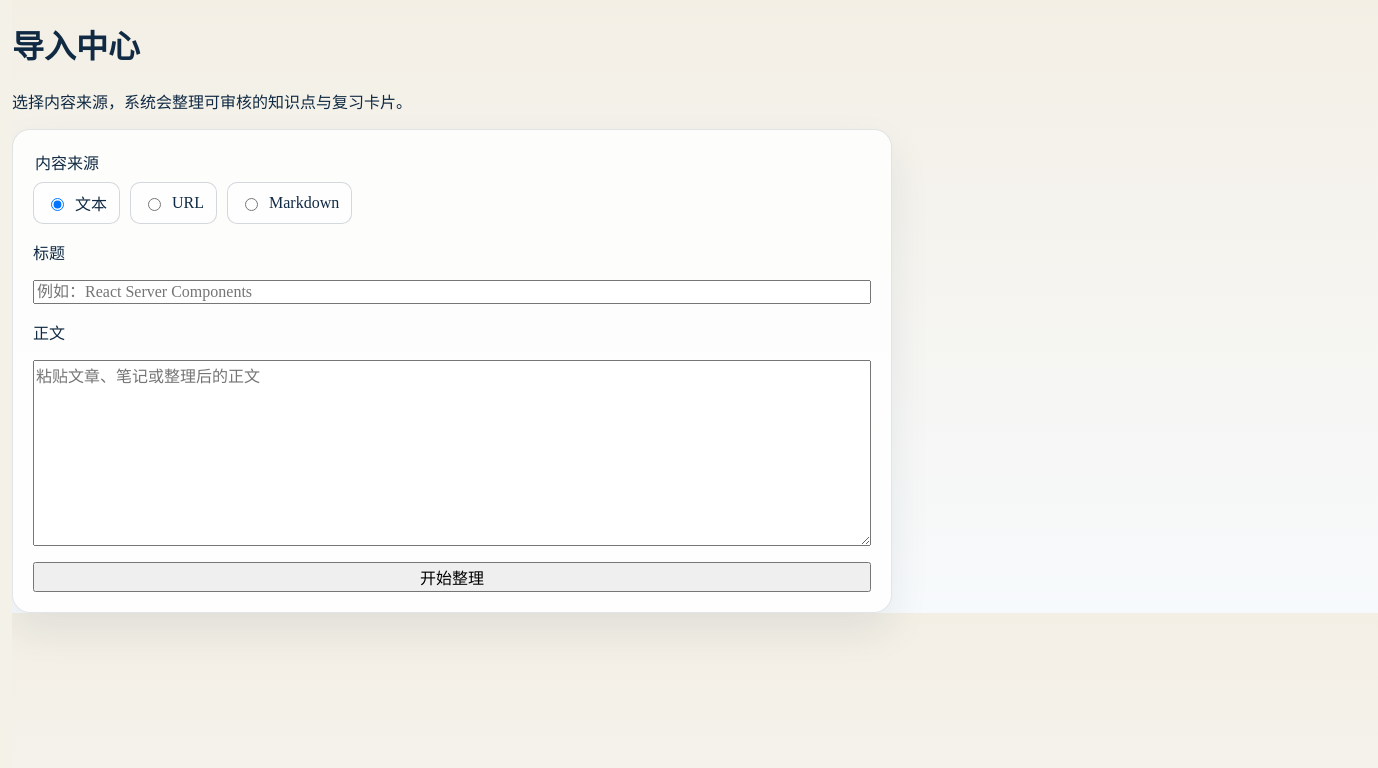
Test: ImportPage › shows an actionable error when DeepSeek generation fails
The image size is (1378, 768).
Type "RSC" into the field labelled "标题" at (452, 292), box [33,280,871,304]
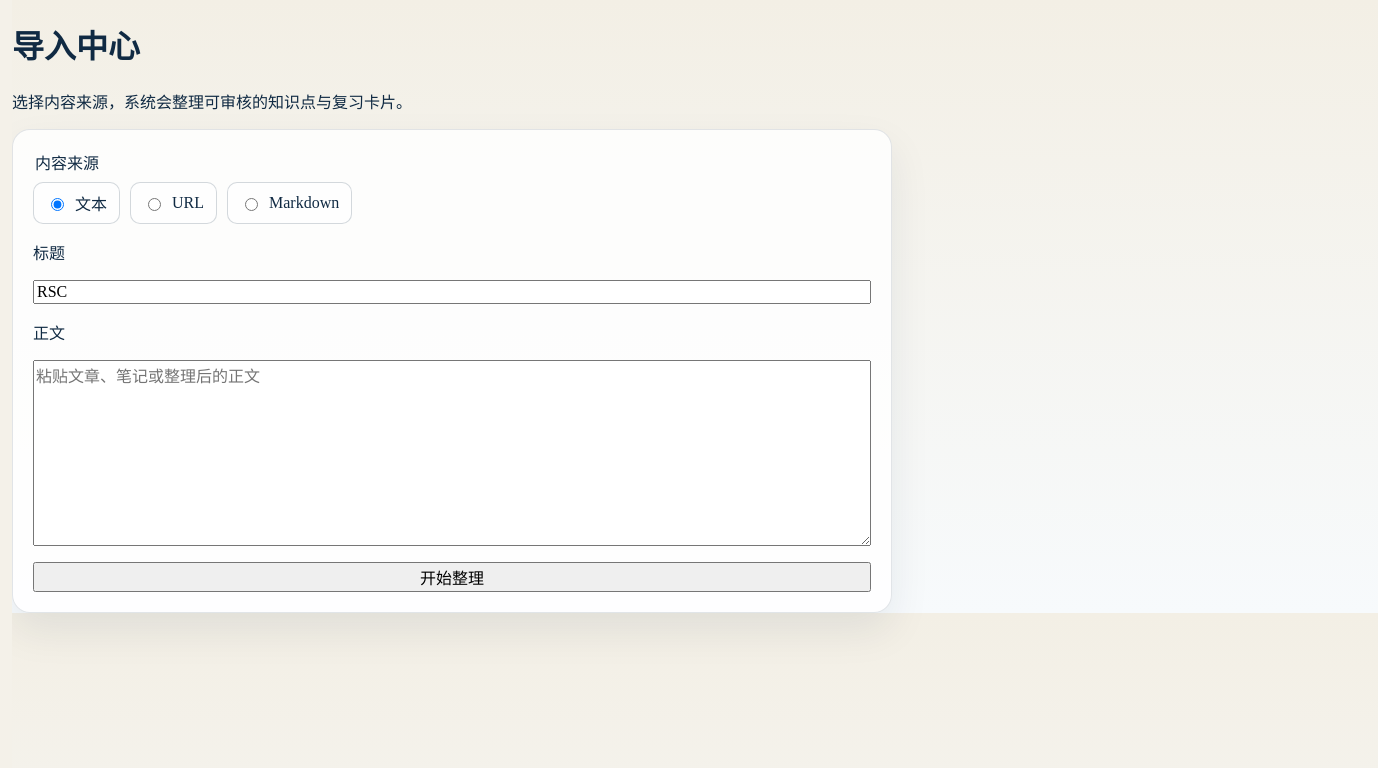
Type "内容" into the text box labelled "正文" at (452, 453), box [33,360,871,546]
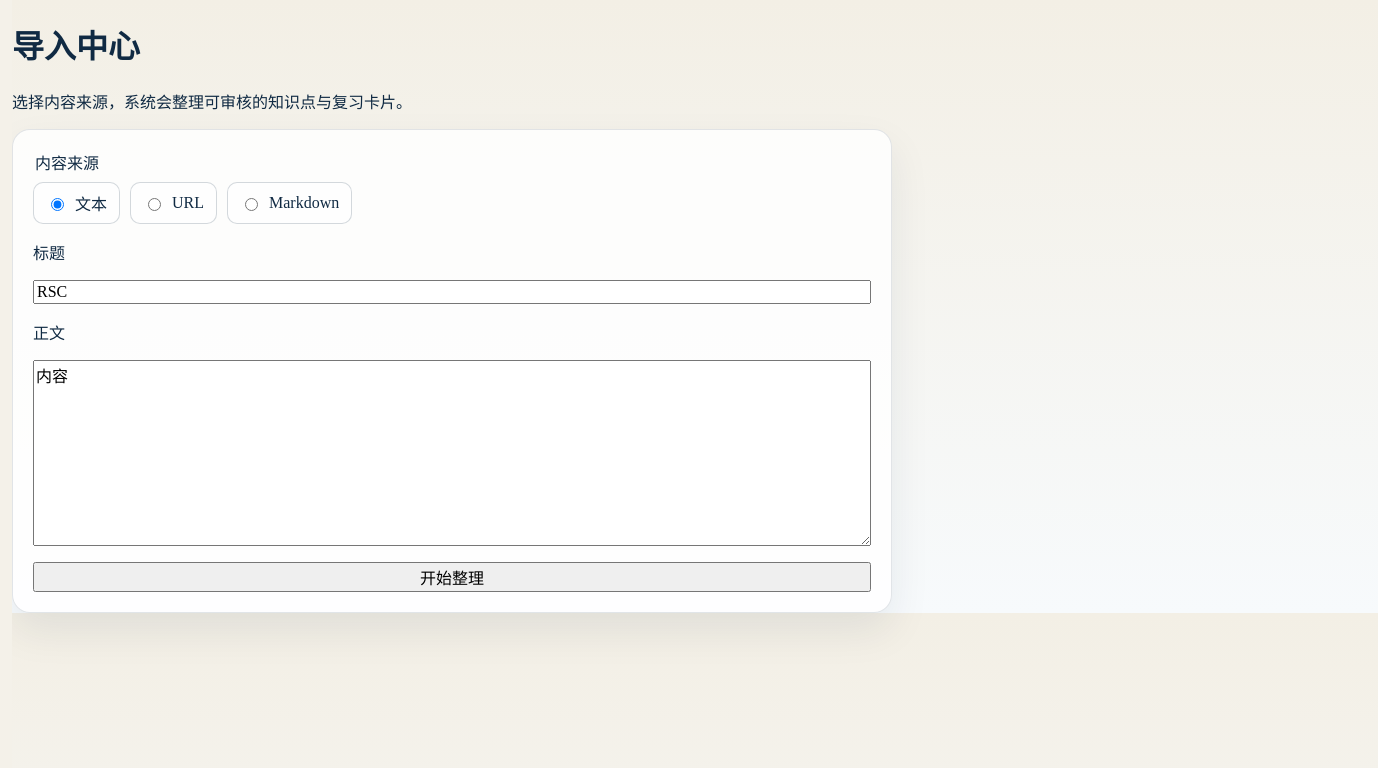
Click the button "开始整理" at (452, 577), box [33,562,871,592]
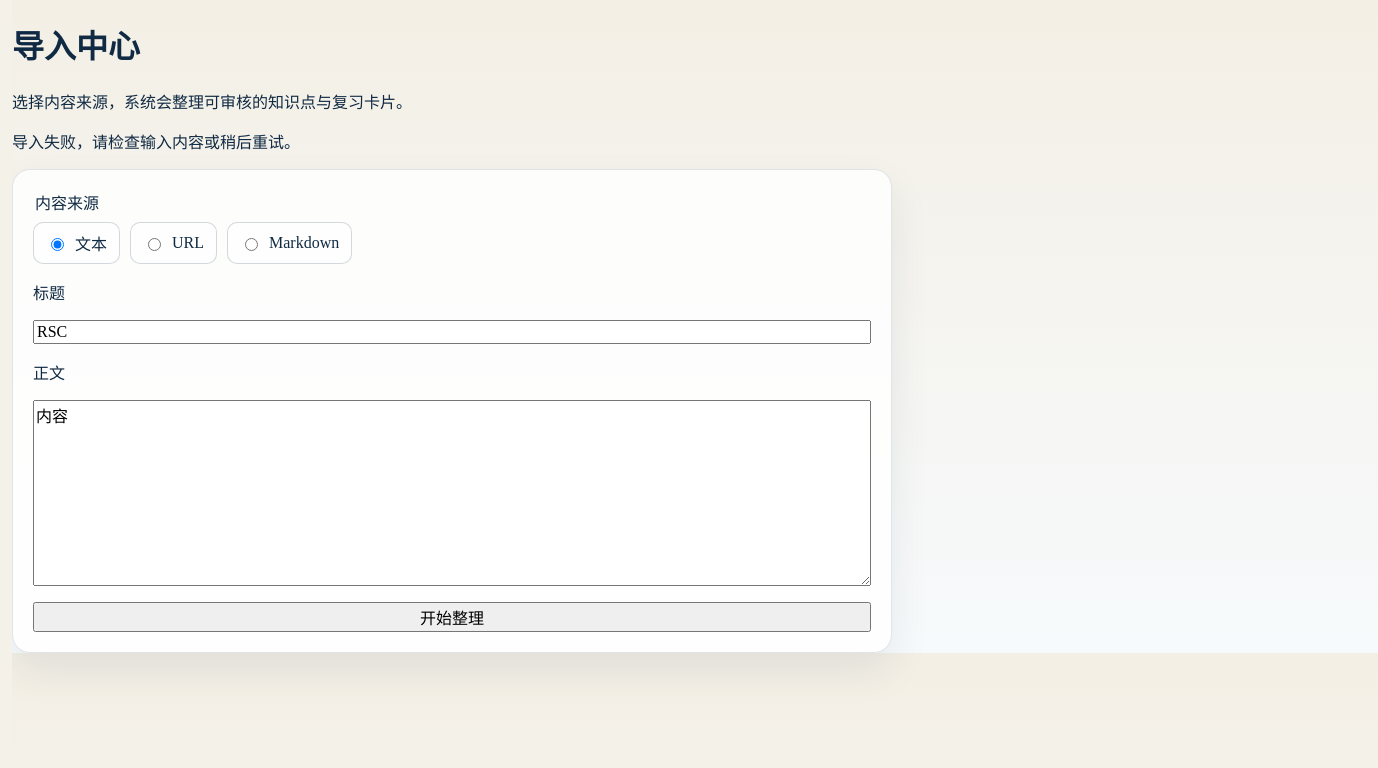
Check: the message reads "导入失败，请检查输入内容或稍后重试。", box [12,134,300,151]
